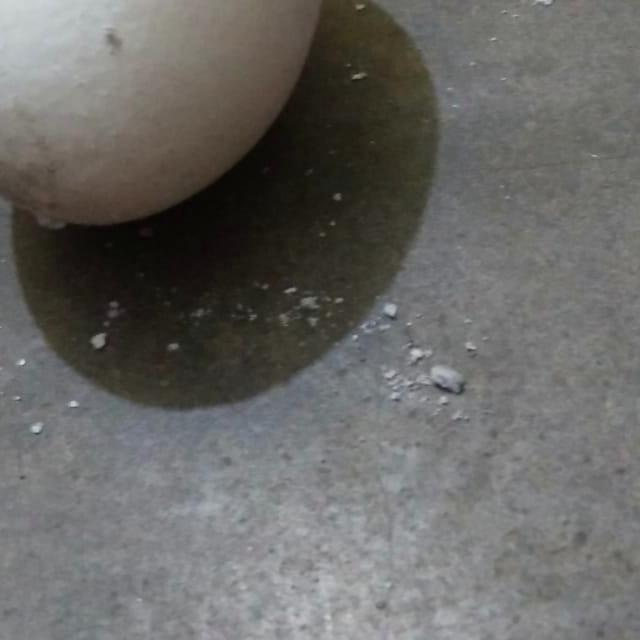egg: (0, 0, 335, 232)
